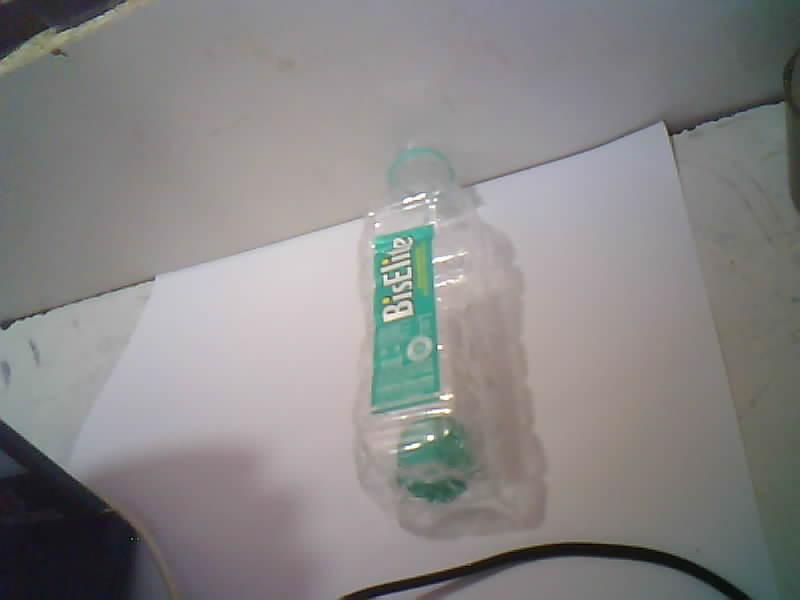non-biodegradable: (354, 147, 543, 536)
